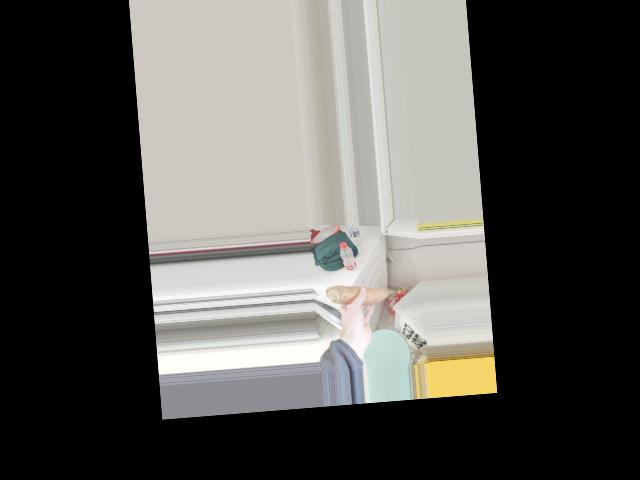sweet_potato: (335, 287, 388, 306)
